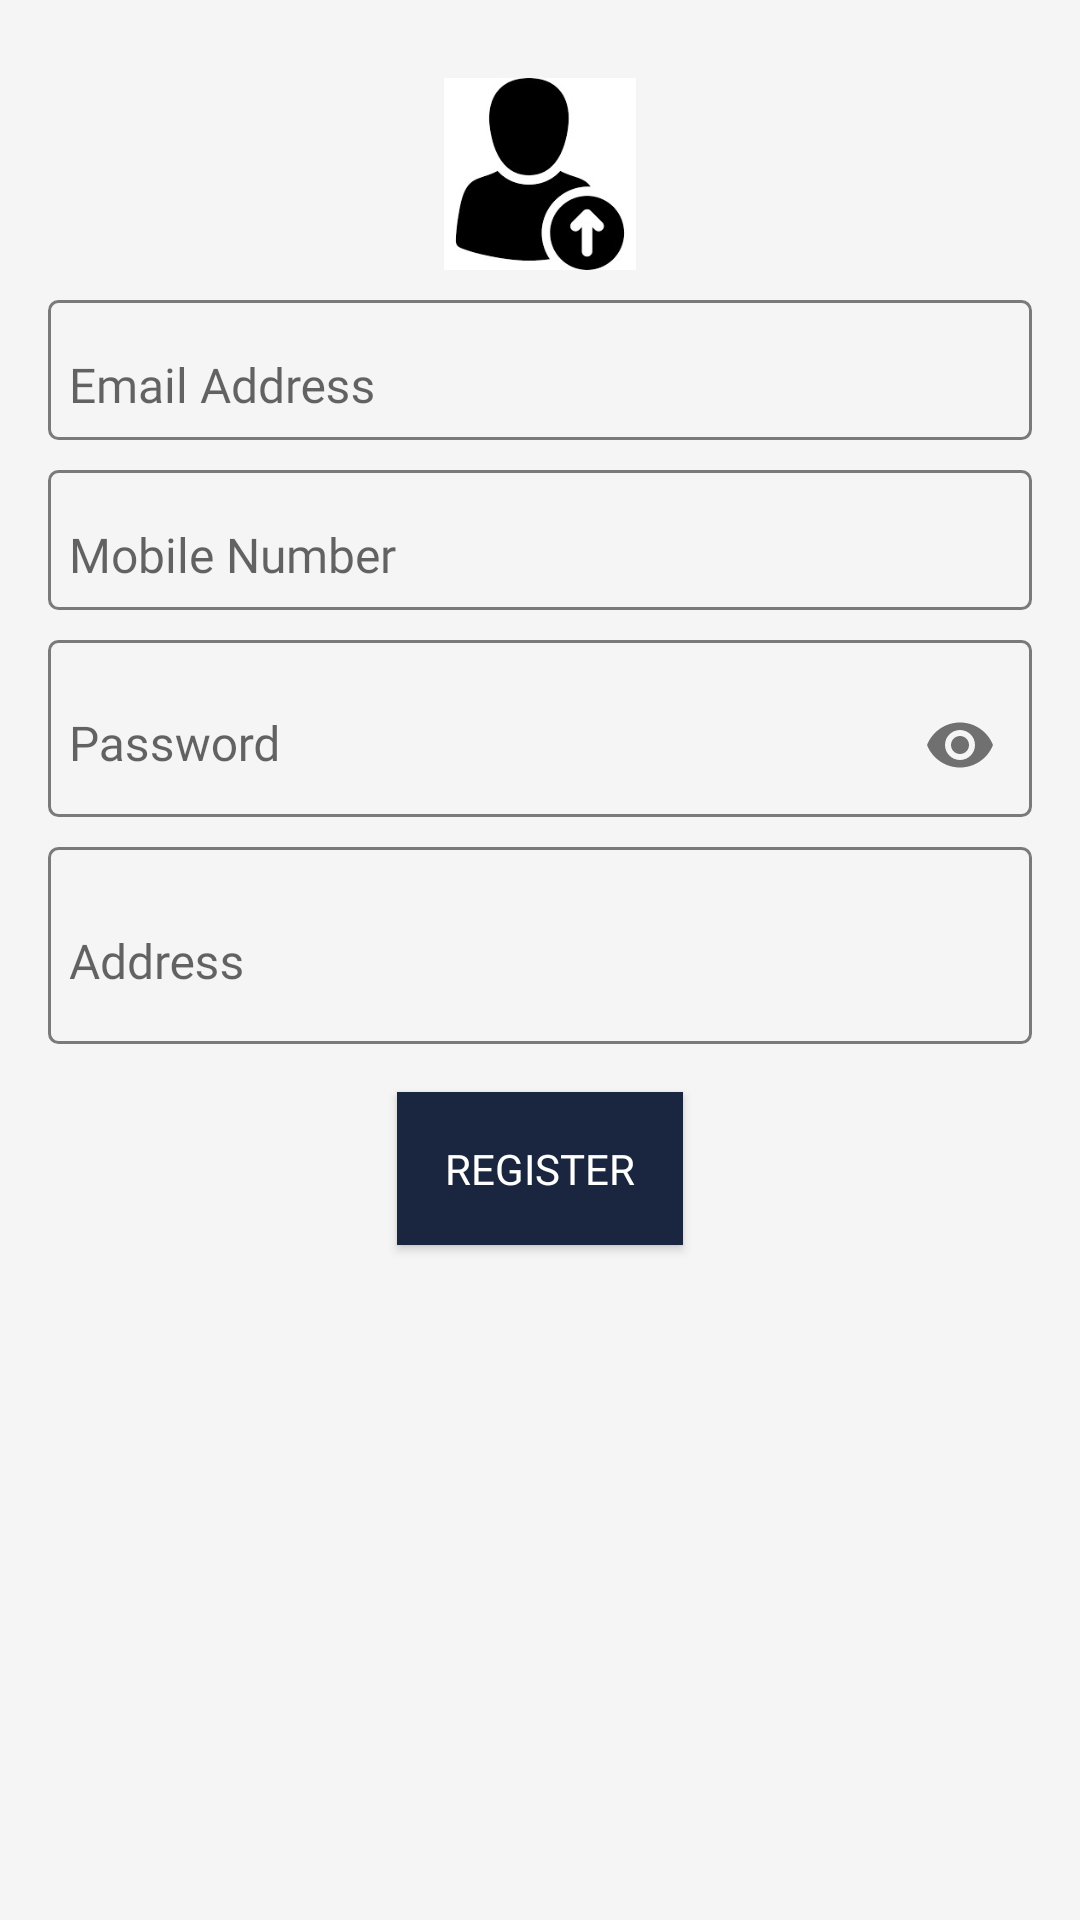

Point at icon controls on the screen. Image size 1080w x 1920h, points as [x,y].
upload picture: [540,174]
